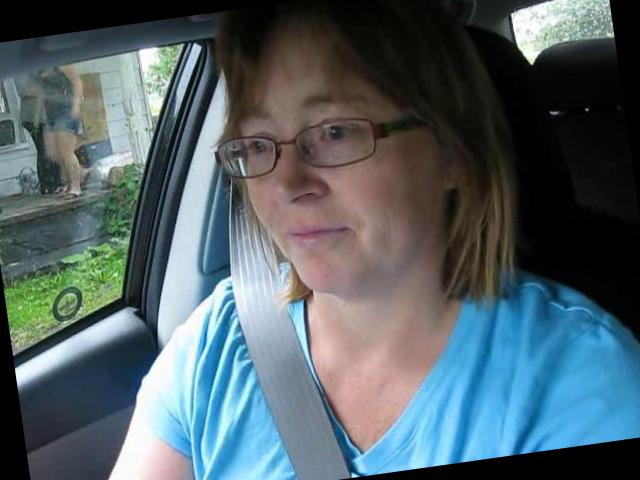eye_open: (306, 113, 374, 159), (239, 130, 279, 168)
face: (226, 65, 448, 318)
